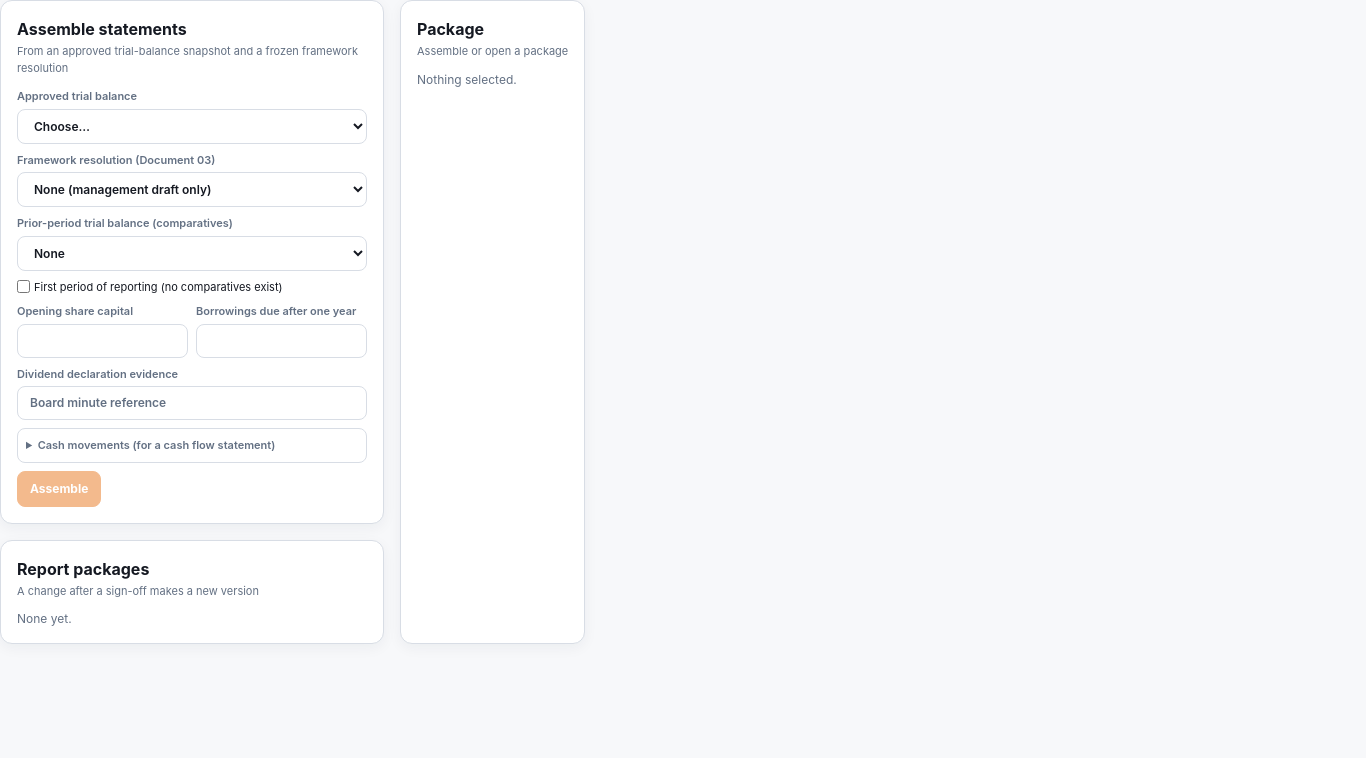
Scenario: Statements workspace (Document 05) › assembles only from approved snapshots and shows readiness, statements, checks and notes
Select "tb.csv · v1" in the dropdown labelled "Approved trial balance" at (192, 126), box [17,108,367,144]
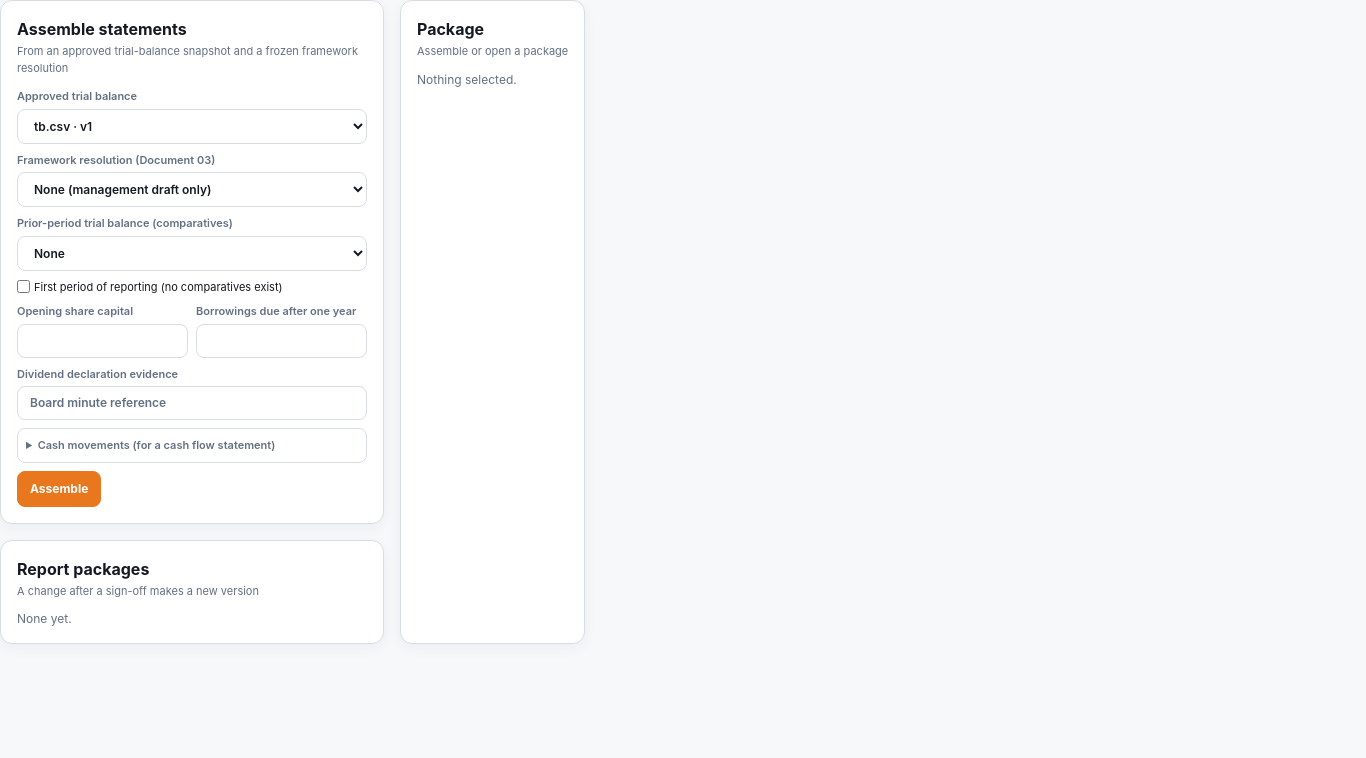
Click the button "Assemble" at (59, 488), box [17,470,101,506]
(page scrolled)
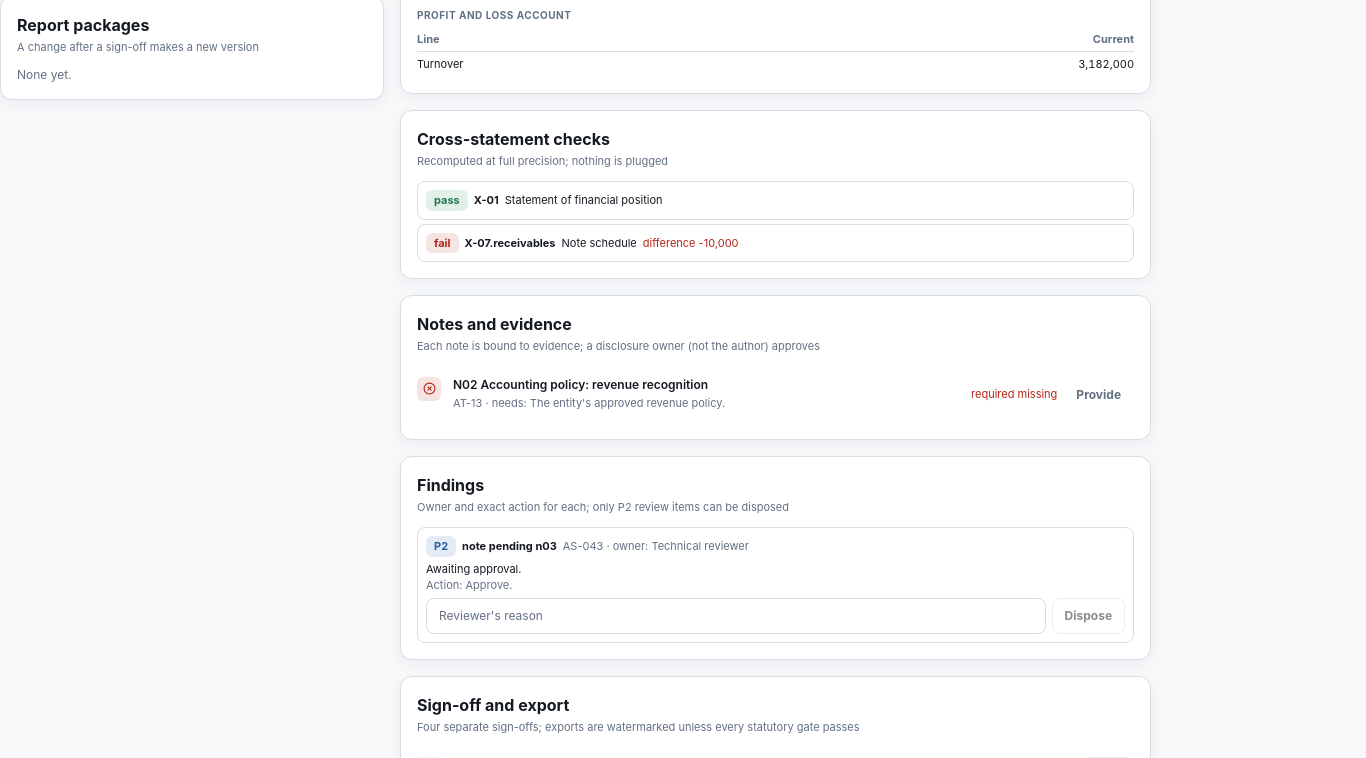
Check: the text "Turnover" is shown, box [417,52,743,76]
Check: the text "difference -10,000" is shown, box [643,234,738,251]
Check: the text "N02 Accounting policy: revenue recognition" is shown, box [453,376,708,392]
